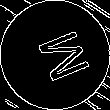M_W: (23, 24, 87, 86)
